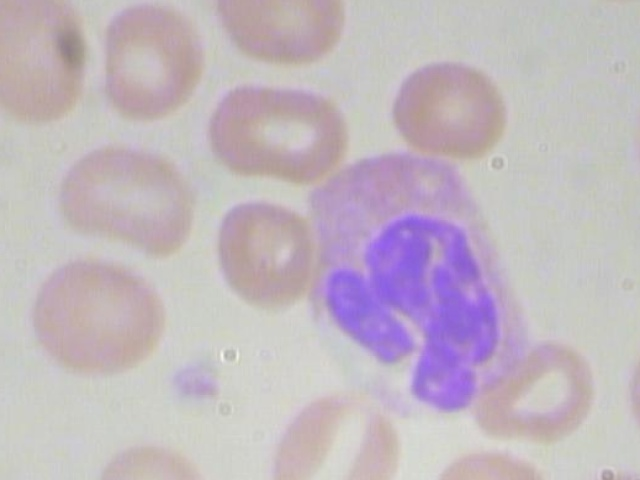RBC: (23, 242, 179, 391), (44, 138, 202, 259), (198, 69, 356, 190), (192, 193, 349, 314), (456, 329, 613, 450), (86, 0, 209, 128), (387, 43, 512, 156), (0, 0, 99, 134), (267, 384, 400, 480), (203, 0, 361, 77), (84, 430, 209, 480), (602, 80, 640, 217), (415, 448, 565, 480), (622, 327, 640, 472)
WBC: (288, 149, 567, 426)
